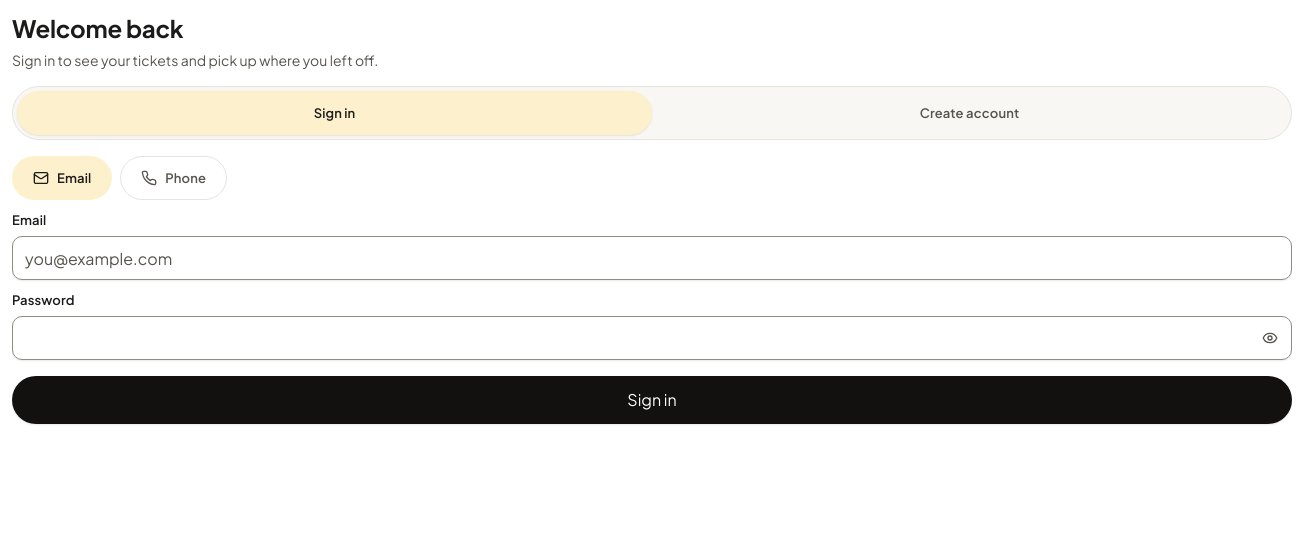
Test: AuthPanel › moves the subheading with the mode, not just the heading
The image size is (1304, 546).
Expected: the heading reads "Welcome back", 12,13 -> 183,43
Expected: the text "Sign in to see your tickets and pick up where you left off." is shown, 12,51 -> 378,69
Click the tab "Create account" at (970, 113), box 652,91 -> 1287,135
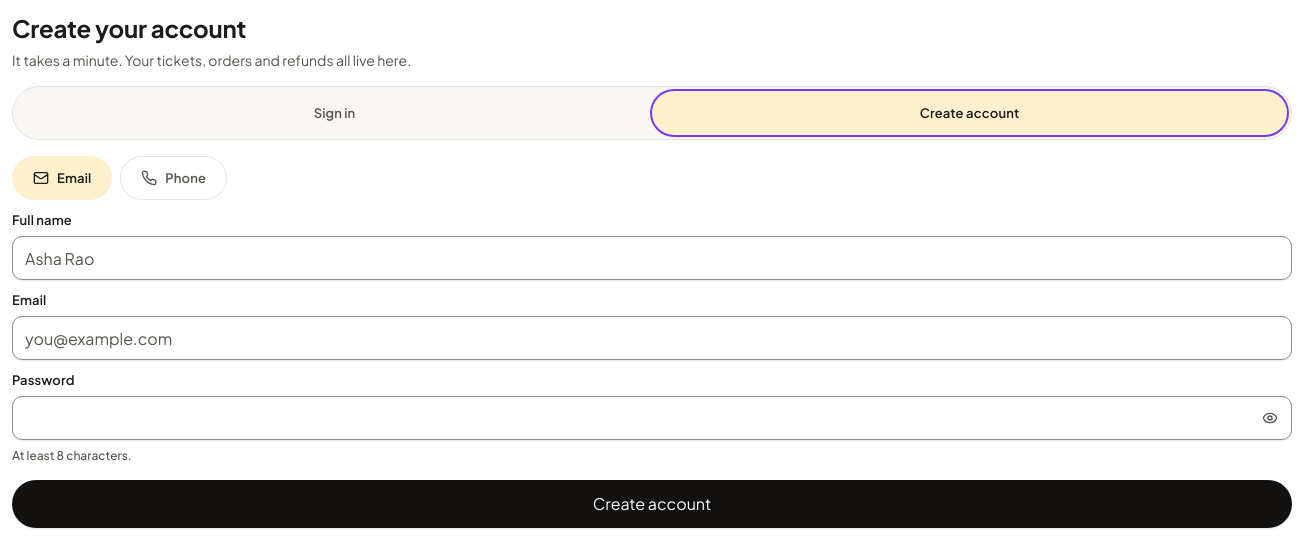
Expected: the heading reads "Create your account", 12,13 -> 246,43
Expected: the text "Sign in to see your tickets and pick up where you left off." is gone
Expected: the field labelled "Full name" is shown, 12,236 -> 1292,280
